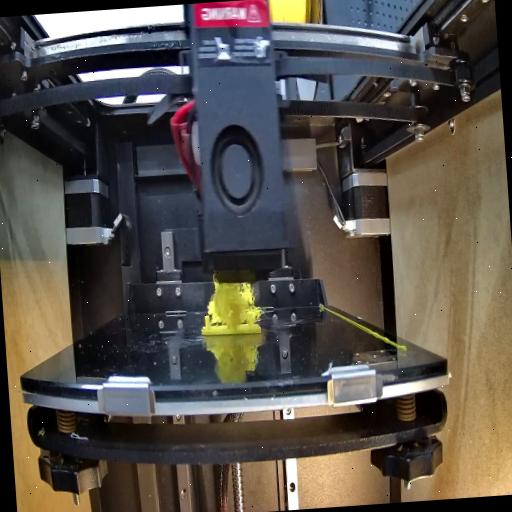spaghetti: (208, 276, 262, 326)
